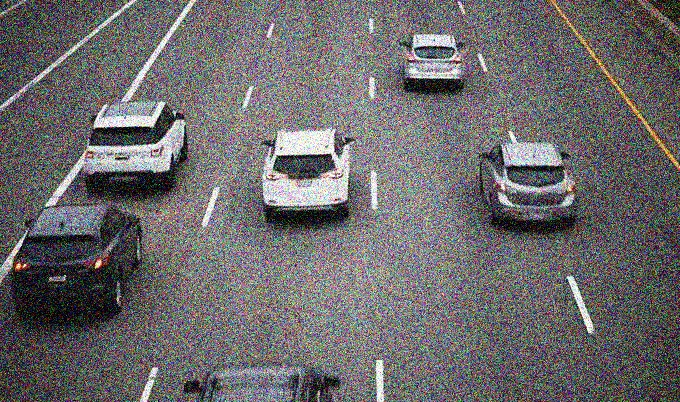car: (0, 198, 161, 330), (239, 115, 375, 238), (63, 90, 201, 198), (455, 131, 588, 239), (174, 349, 358, 402), (378, 18, 476, 104)
